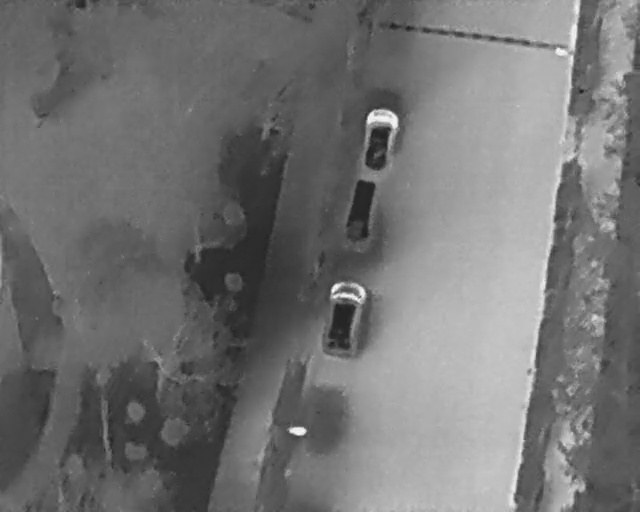Car: (314, 276, 372, 363), (355, 104, 402, 176), (338, 175, 384, 247)
